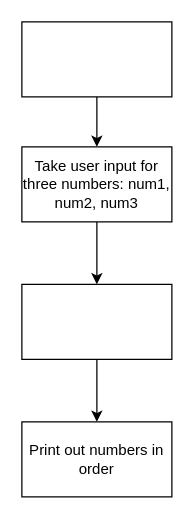
Some shapes in this 194 by 519 pixel diagram are drawn without their labels. Here are the shapes that lost their labels. From the top down, the centre of each, then its label:
pixel 96 59: Start
pixel 96 321: Three blocks of code are used to organize the numbers in order by size.
